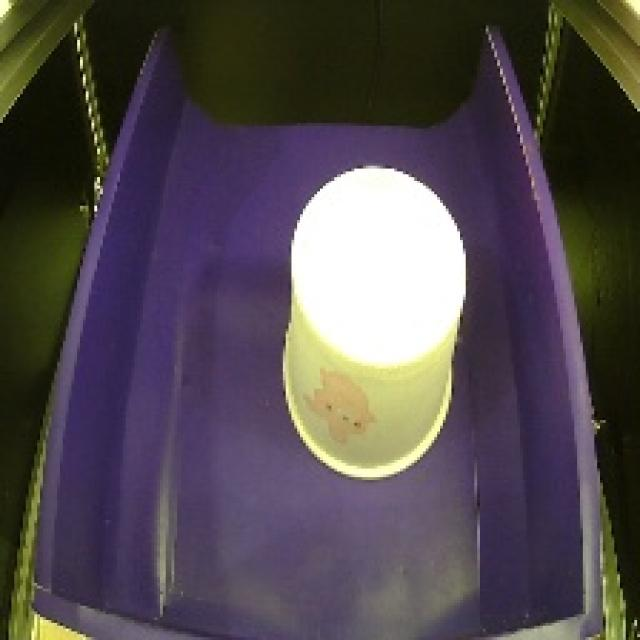cups: (275, 152, 474, 484)
